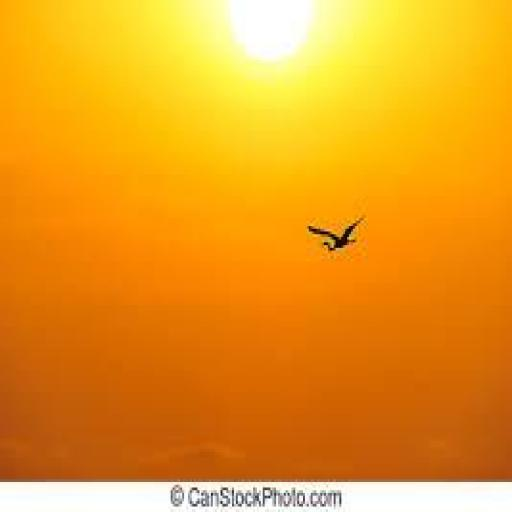birds: (306, 212, 367, 257)
